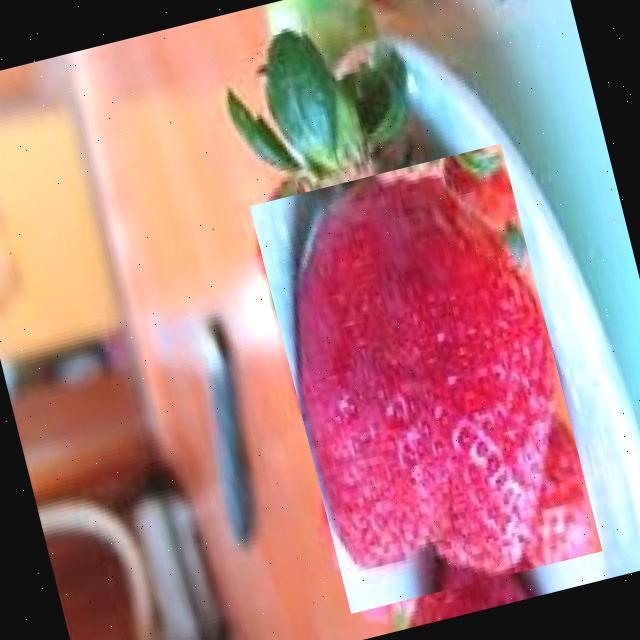ripe: (249, 143, 602, 613)
